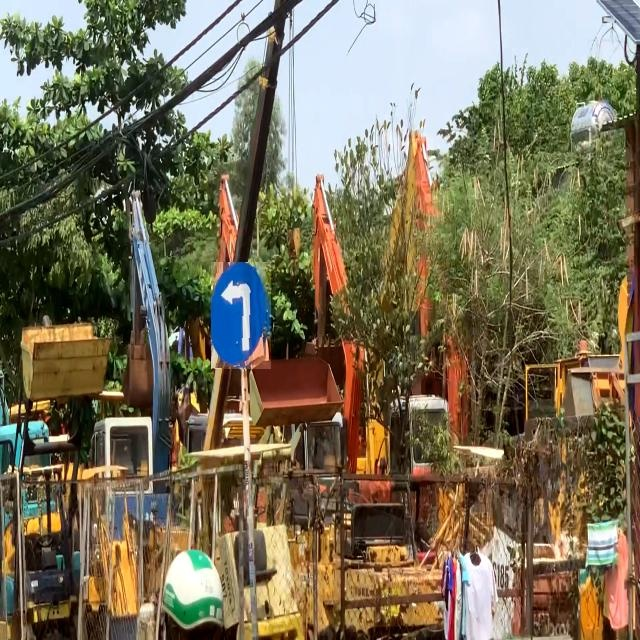bien_hieu_lenh: (212, 262, 272, 369)
